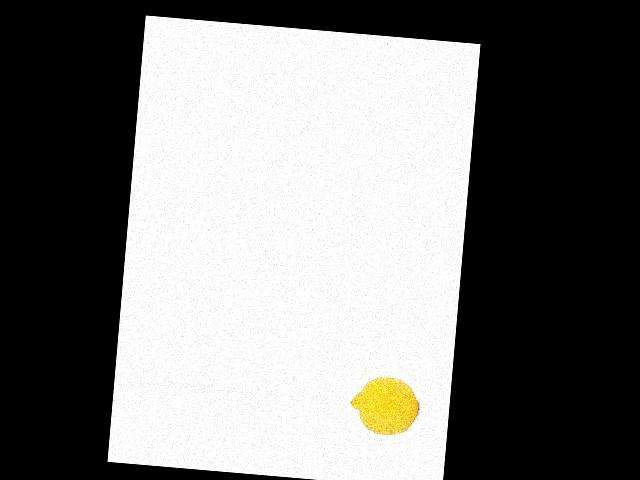lemon: (347, 365, 427, 438)
